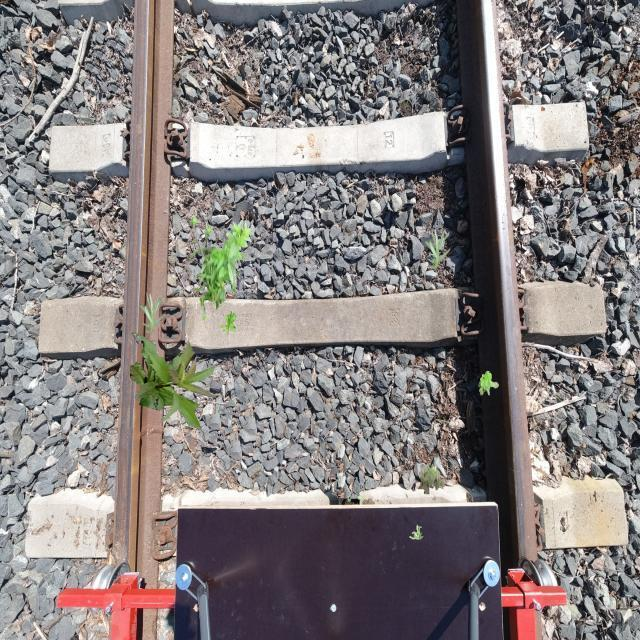Plant: (130, 332, 218, 430), (189, 214, 254, 322), (425, 228, 452, 270), (140, 292, 166, 334), (419, 463, 445, 495), (478, 371, 498, 396), (219, 311, 236, 335), (410, 524, 424, 540)
